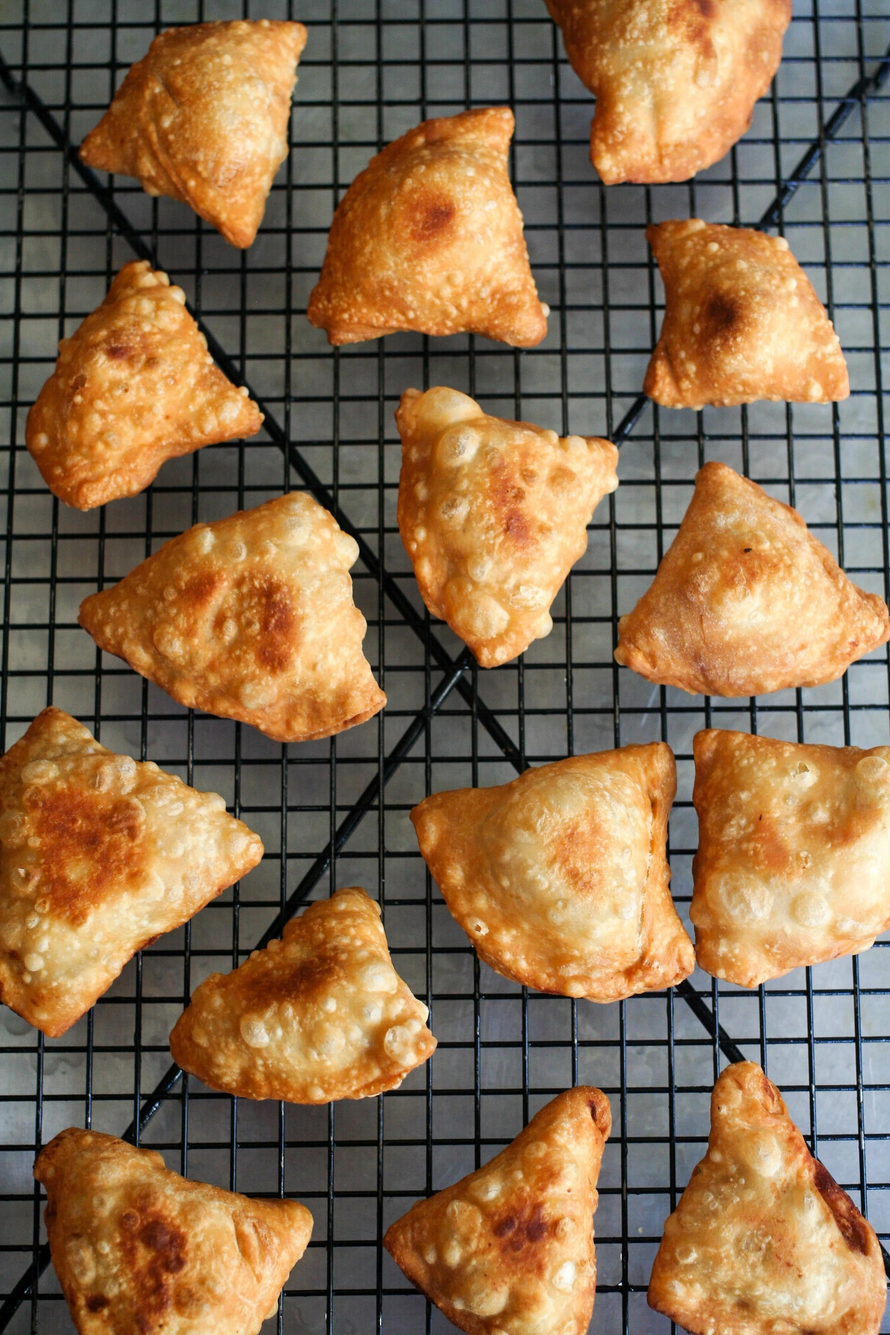Samosa: (0, 717, 276, 1037), (380, 377, 622, 694), (77, 492, 384, 732), (414, 742, 697, 999), (307, 101, 577, 357), (639, 1064, 890, 1335), (368, 1088, 613, 1335), (612, 470, 890, 686), (44, 1115, 315, 1335), (183, 883, 439, 1110), (17, 259, 265, 493), (77, 0, 310, 226), (695, 728, 886, 976), (554, 0, 785, 188), (631, 208, 849, 404)
